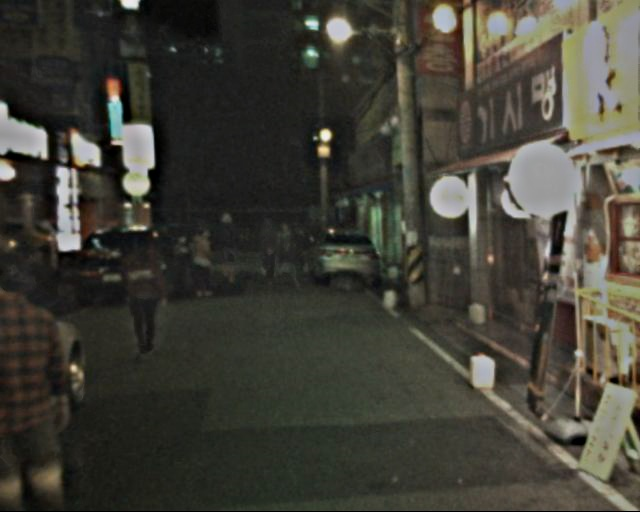person: (2, 249, 96, 508), (123, 233, 171, 351), (187, 220, 222, 302), (212, 210, 243, 285), (255, 212, 282, 291), (285, 221, 312, 295)
